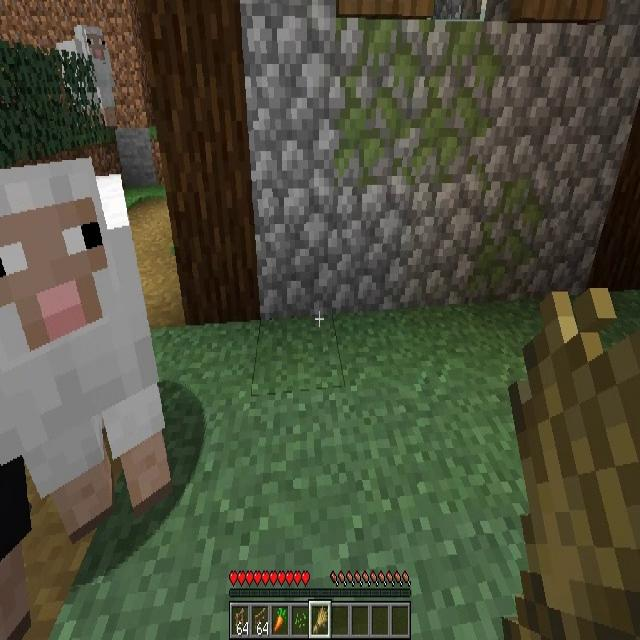sheep: (0, 157, 171, 547)
